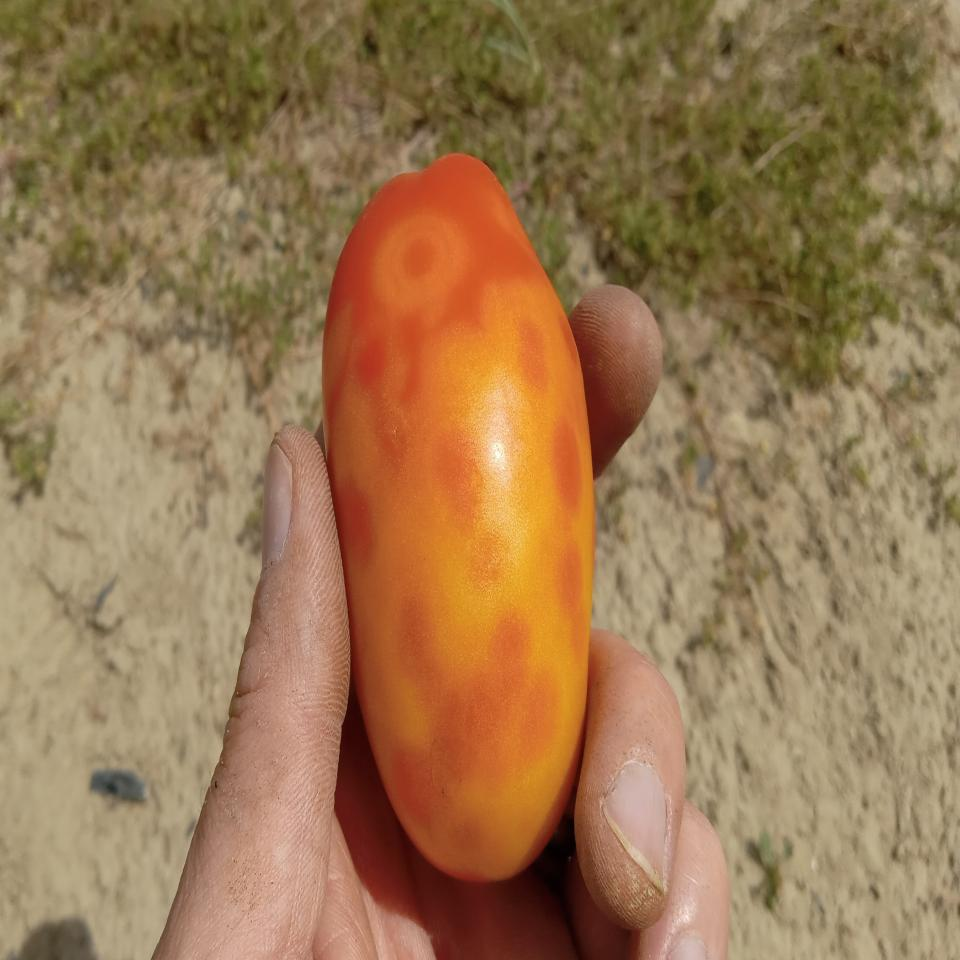Spotted wilt Virus: (319, 155, 594, 888)
